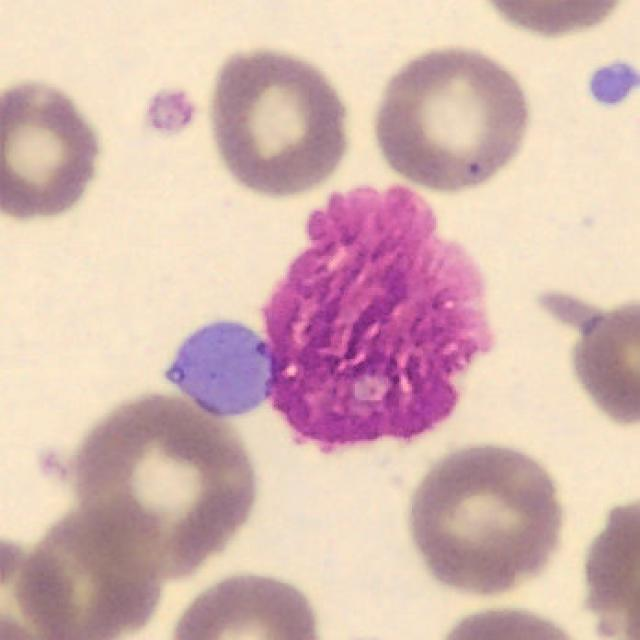Artefato: (164, 322, 270, 418)
Restos celulares: (267, 187, 495, 452)
